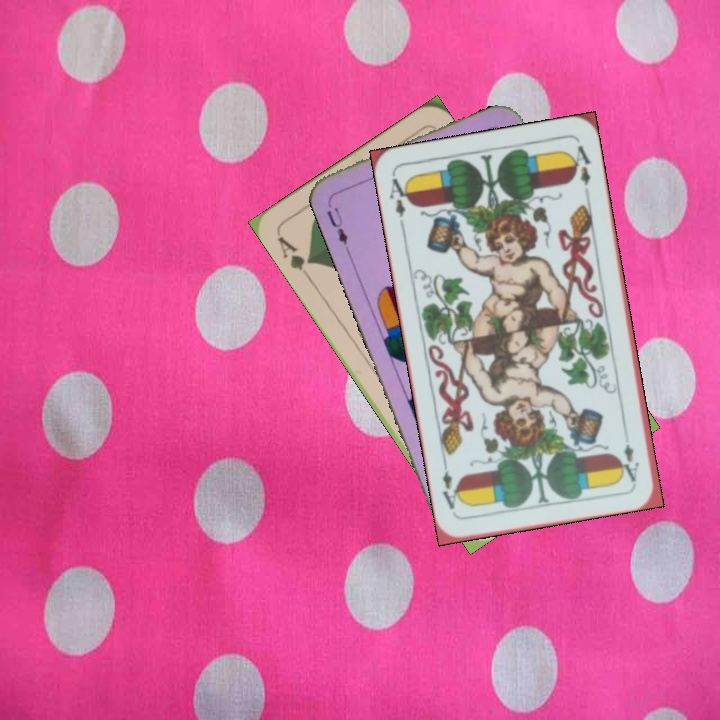EA: (385, 174, 414, 231), (620, 440, 642, 485)
EU: (322, 195, 351, 253)
GA: (273, 232, 316, 282)
